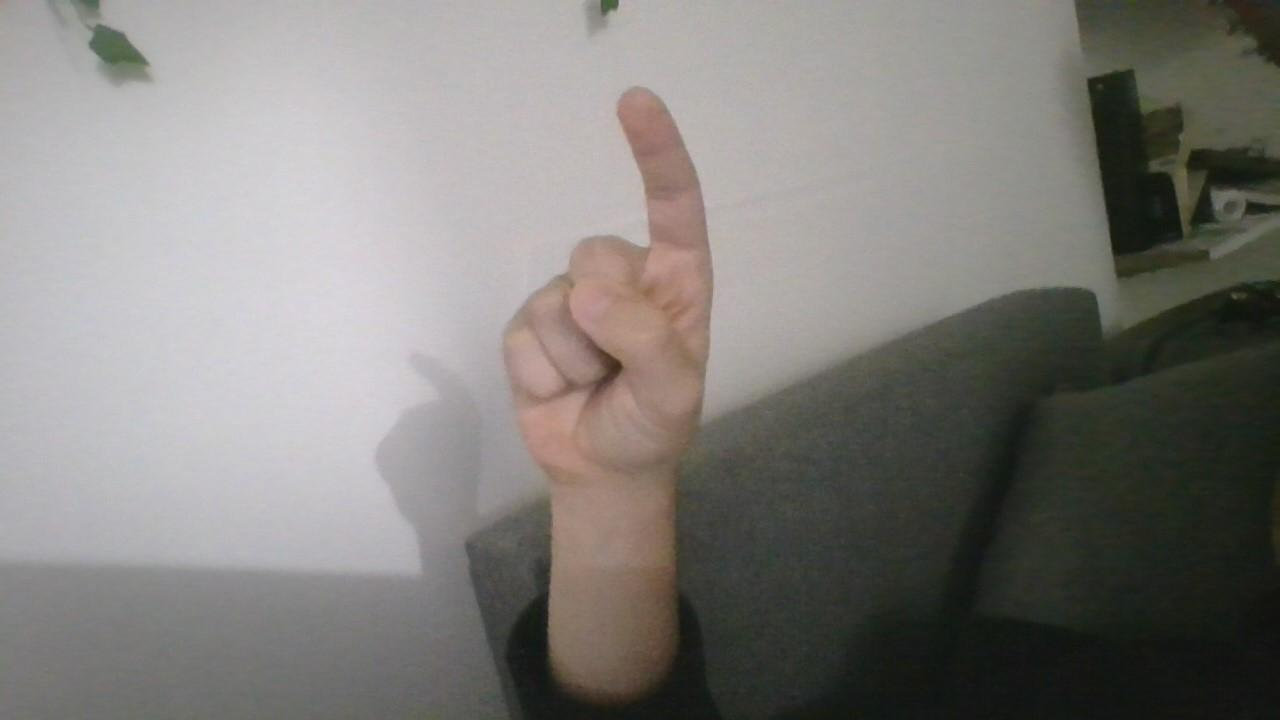up: (472, 69, 733, 492)
